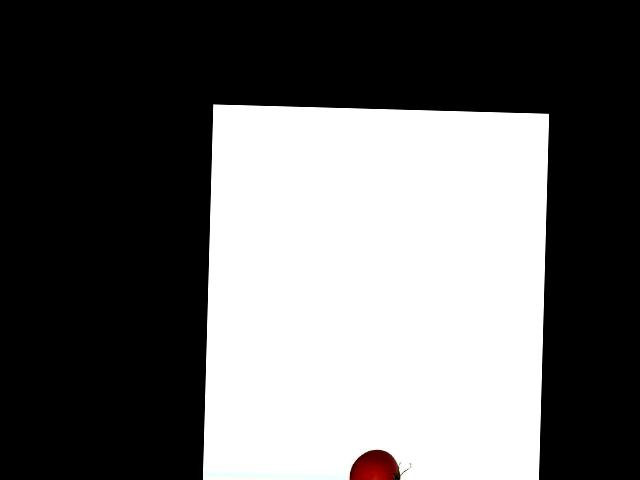tomato: (348, 449, 401, 480)
